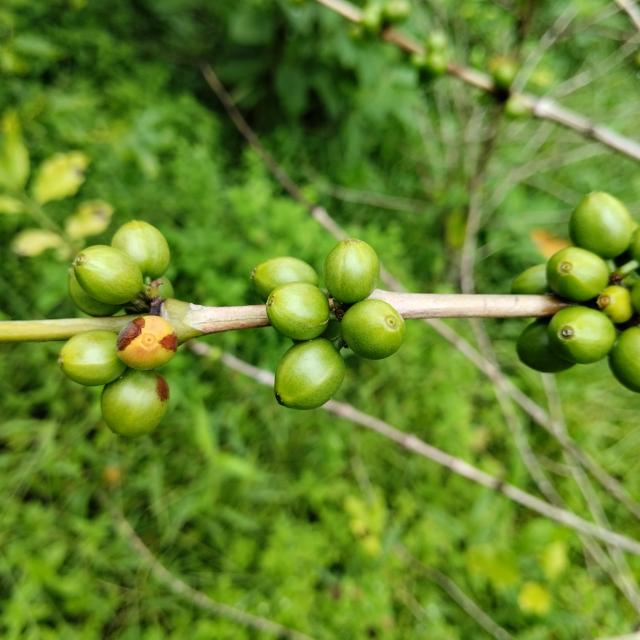green: (274, 338, 345, 410), (100, 368, 169, 438), (570, 191, 638, 258), (72, 245, 143, 305), (548, 306, 618, 364), (341, 300, 405, 360), (111, 220, 170, 284), (58, 330, 125, 386), (266, 282, 329, 341), (324, 238, 380, 303), (547, 246, 610, 302), (517, 318, 576, 373), (251, 256, 318, 302), (68, 267, 121, 317), (610, 326, 640, 393), (598, 285, 634, 323), (512, 264, 550, 294)
red: (116, 315, 177, 371)
